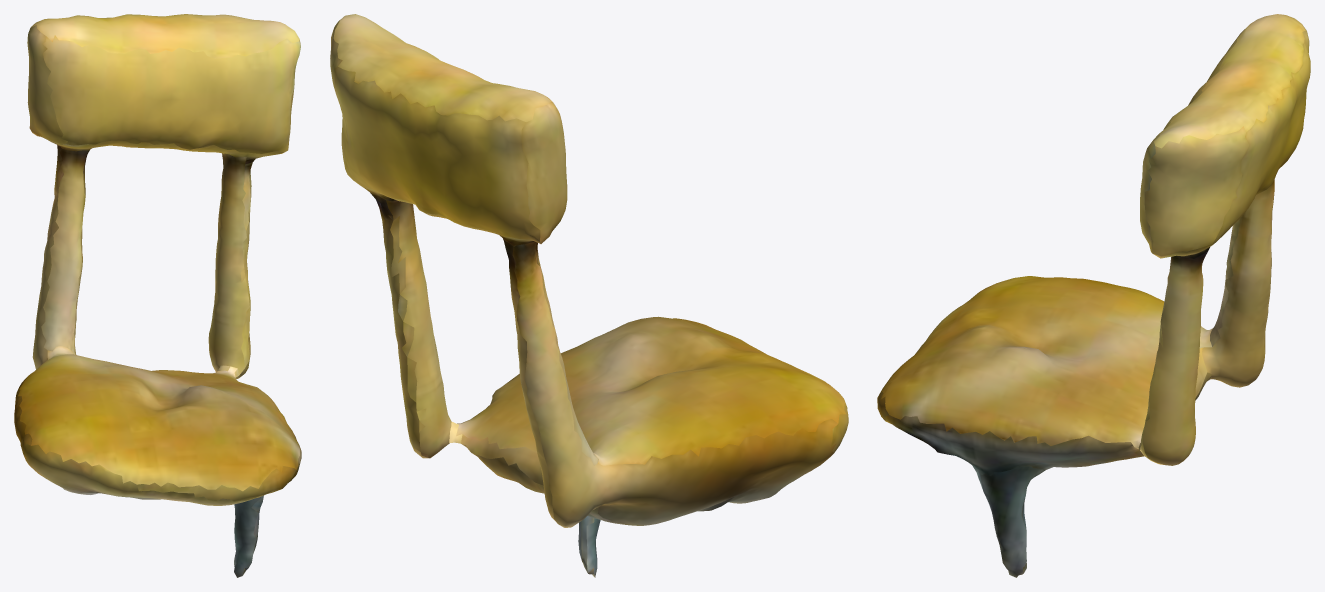
The model's file is 17_chair.glb.
The picture shows the model from 3 angles, left to right: view 1: azimuth 30°, elevation 25°; view 2: azimuth 150°, elevation 25°; view 3: azimuth 270°, elevation 25°; orthographic projection. The views are drawn at different scales.
Visible parts, largest first — view 1: 17_chair; view 2: 17_chair; view 3: 17_chair.
Boxes of the visible parts, x1=… form: 17_chair: x1=14, y1=14, x2=301, y2=577; 17_chair: x1=330, y1=14, x2=848, y2=577; 17_chair: x1=877, y1=14, x2=1310, y2=577.
Bounding box in the file's own units: 0.6119 × 0.8534 × 0.6385.
1 material, 1 textured.
